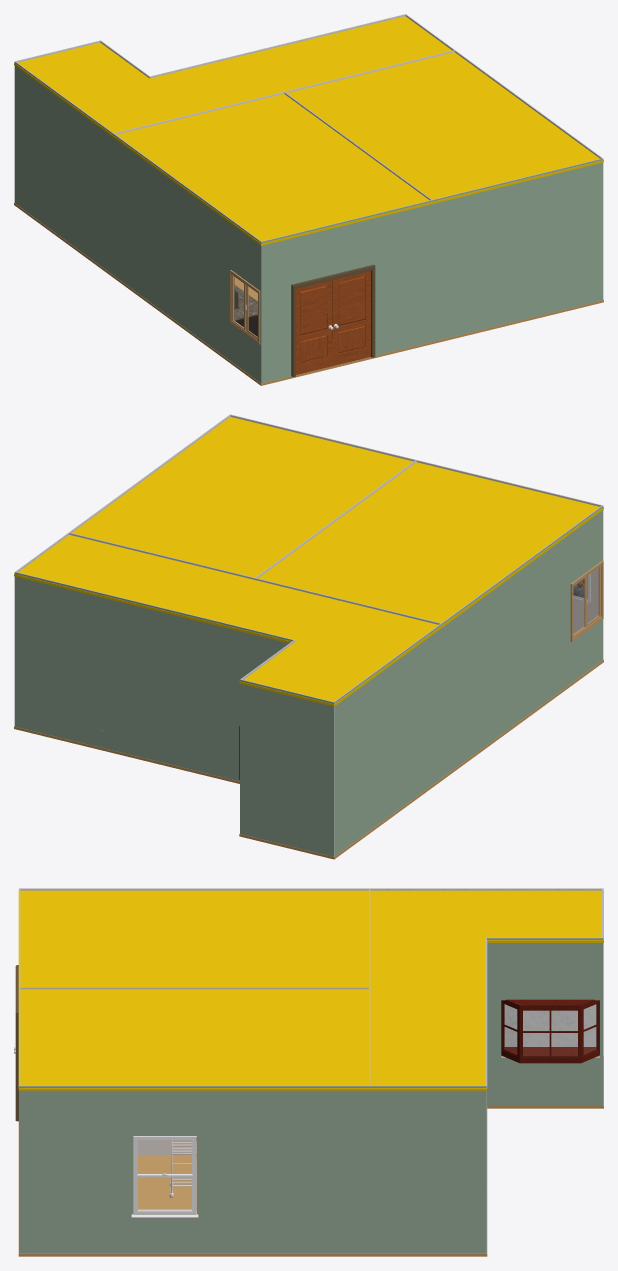
File: ProcTHOR-Train-58.glb
3 views of the same model, one above another, from view 1: azimuth 30°, elevation 25°; view 2: azimuth 150°, elevation 25°; view 3: azimuth 270°, elevation 25° (orthographic). The views are drawn at different scales.
Parts seen in each view (by area): view 1: Ceiling#room|6|c, Ceiling#room|7|c, WallInside#wall|exterior|0.00|10.26|4.10|10.26, Ceiling#room|2|c, WallInside#wall|exterior|8.21|4.10|8.21|10.26, WallInside#wall|exterior|4.10|10.26|8.21|10.26, WallInside#wall|exterior|8.21|0.00|8.21|4.10, Doorway_Door_4b, Doorway_Door_4a, Doorway_Double_4, Floor#room|6|f, Window_Slider_48x48 (+3 smaller); view 2: WallInside#wall|exterior|0.00|2.05|6.16|2.05, Ceiling#room|6|c, Ceiling#room|7|c, Ceiling#room|2|c, WallInside#wall|exterior|8.21|4.10|8.21|10.26, WallInside#wall|exterior|8.21|0.00|8.21|4.10, WallInside#wall|exterior|6.16|0.00|8.21|0.00, Floor#room|2|f, WallInside#wall|6|4.10|10.26|8.21|10.26, Window_Slider_48x48; view 3: WallInside#wall|exterior|0.00|4.10|0.00|10.26, Ceiling#room|7|c, Ceiling#room|6|c, Ceiling#room|2|c, WallInside#wall|exterior|0.00|2.05|0.00|4.10, WallInside#wall|exterior|6.16|0.00|6.16|2.05, Floor#room|7|f, WallInside#wall|2|8.21|0.00|8.21|4.10, Window_Bay_2, Window_Hung_44x60, WallInside#wall|7|4.10|4.10|4.10|10.26, WallInside#wall|6|8.21|4.10|8.21|10.26 (+3 smaller).
Boxes of the visible parts, bbox=[...] form: Ceiling#room|6|c: bbox=[113, 94, 433, 245]; Ceiling#room|7|c: bbox=[287, 52, 603, 203]; WallInside#wall|exterior|0.00|10.26|4.10|10.26: bbox=[432, 158, 603, 341]; Ceiling#room|2|c: bbox=[14, 16, 452, 137]; WallInside#wall|exterior|8.21|4.10|8.21|10.26: bbox=[113, 134, 261, 383]; WallInside#wall|exterior|4.10|10.26|8.21|10.26: bbox=[261, 200, 432, 383]; WallInside#wall|exterior|8.21|0.00|8.21|4.10: bbox=[14, 61, 113, 274]; Doorway_Door_4b: bbox=[332, 271, 370, 365]; Doorway_Door_4a: bbox=[296, 280, 332, 374]; Doorway_Double_4: bbox=[291, 264, 375, 376]; Floor#room|6|f: bbox=[113, 275, 433, 385]; Window_Slider_48x48: bbox=[230, 270, 260, 344]; WallInside#wall|exterior|0.00|2.05|6.16|2.05: bbox=[14, 572, 293, 781]; Ceiling#room|6|c: bbox=[256, 462, 603, 626]; Ceiling#room|7|c: bbox=[72, 417, 413, 579]; Ceiling#room|2|c: bbox=[14, 535, 442, 706]; WallInside#wall|exterior|8.21|4.10|8.21|10.26: bbox=[441, 505, 603, 777]; WallInside#wall|exterior|8.21|0.00|8.21|4.10: bbox=[334, 623, 442, 856]; WallInside#wall|exterior|6.16|0.00|8.21|0.00: bbox=[240, 679, 333, 856]; Floor#room|2|f: bbox=[14, 726, 442, 859]; WallInside#wall|6|4.10|10.26|8.21|10.26: bbox=[416, 460, 602, 633]; Window_Slider_48x48: bbox=[570, 560, 603, 641]; WallInside#wall|exterior|0.00|4.10|0.00|10.26: bbox=[19, 1086, 369, 1253]; Ceiling#room|7|c: bbox=[18, 989, 370, 1090]; Ceiling#room|6|c: bbox=[18, 890, 370, 989]; Ceiling#room|2|c: bbox=[368, 890, 603, 1090]; WallInside#wall|exterior|0.00|2.05|0.00|4.10: bbox=[369, 1086, 486, 1253]; WallInside#wall|exterior|6.16|0.00|6.16|2.05: bbox=[486, 938, 603, 1105]; Floor#room|7|f: bbox=[18, 1155, 369, 1256]; WallInside#wall|2|8.21|0.00|8.21|4.10: bbox=[370, 888, 602, 1056]; Window_Bay_2: bbox=[501, 999, 599, 1063]; Window_Hung_44x60: bbox=[131, 1136, 198, 1219]; WallInside#wall|7|4.10|4.10|4.10|10.26: bbox=[19, 987, 369, 1155]; WallInside#wall|6|8.21|4.10|8.21|10.26: bbox=[19, 888, 369, 890].
Size of what is drawn, in the model's own units: 8.37 by 3.31 by 10.38.
Materials: 185 (68 with a texture image).
